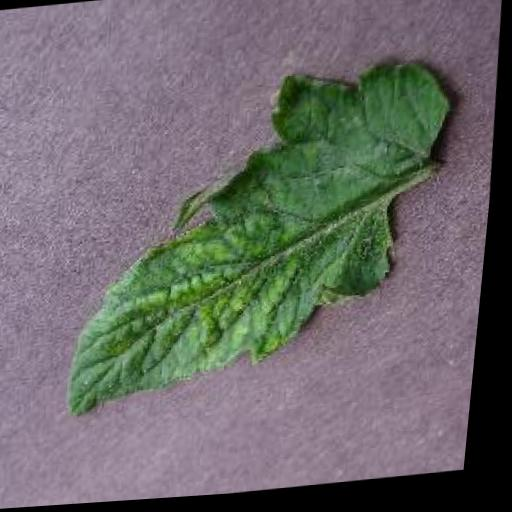Mosaic Virus: (60, 55, 467, 422)
